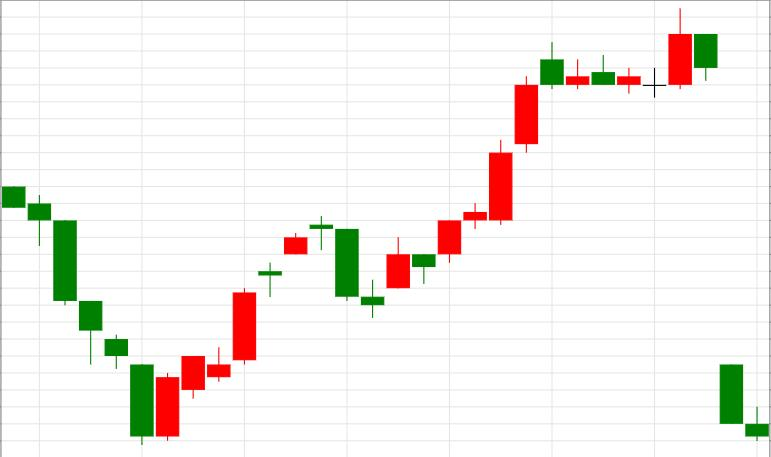evening_star_fall: (157, 215, 358, 441)
